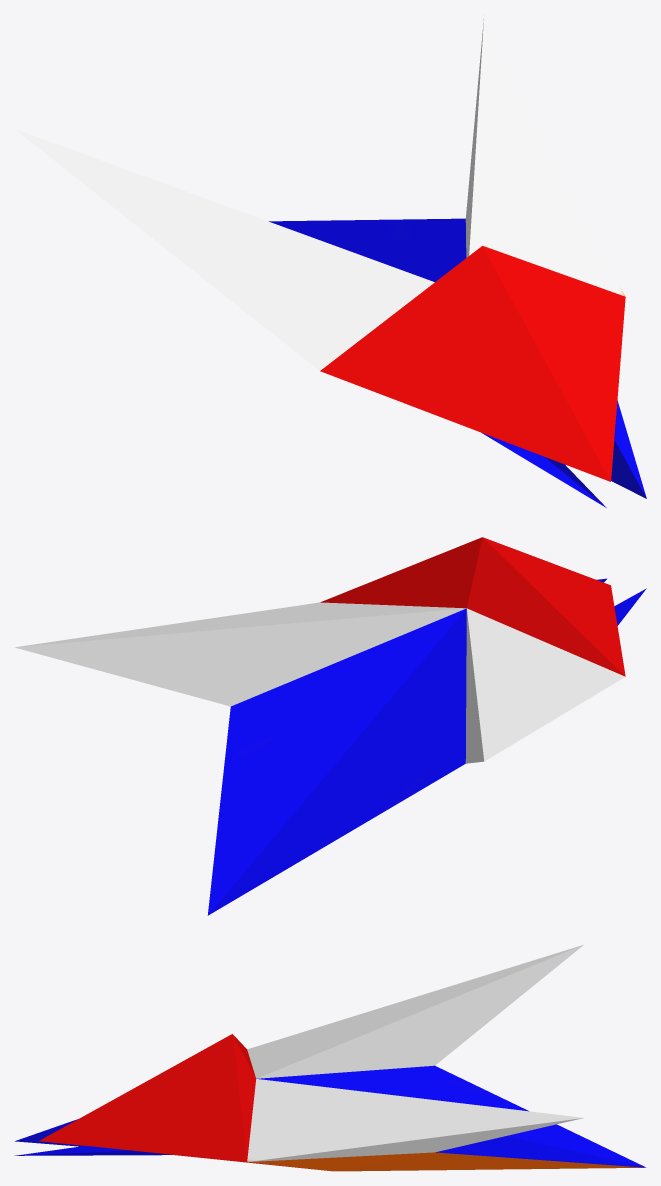
Rendered from enemy.obj.
3 renders of one model, top to bottom at view 1: azimuth 30°, elevation 25°; view 2: azimuth 150°, elevation 25°; view 3: azimuth 270°, elevation 25°, orthographic. The views are drawn at different scales.
Parts seen in each view (by area): view 1: Cube.001; view 2: Cube.001; view 3: Cube.001.
Part boxes in pixels (x1,y1,x2,y2): Cube.001: (15,15,646,507); Cube.001: (14,537,646,915); Cube.001: (14,945,645,1171).
Bounding box in the file's own units: 1.35 × 0.5099 × 2.08.
Materials: 1 (1 with a texture image).
